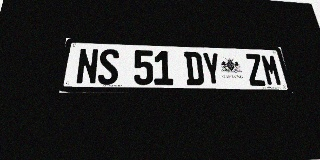1: (153, 51, 173, 85)
5: (134, 50, 154, 85)
D: (184, 52, 205, 85)
M: (260, 54, 283, 86)
N: (75, 48, 99, 85)
S: (97, 49, 119, 85)
Y: (201, 52, 223, 86)
Z: (244, 54, 267, 86)
